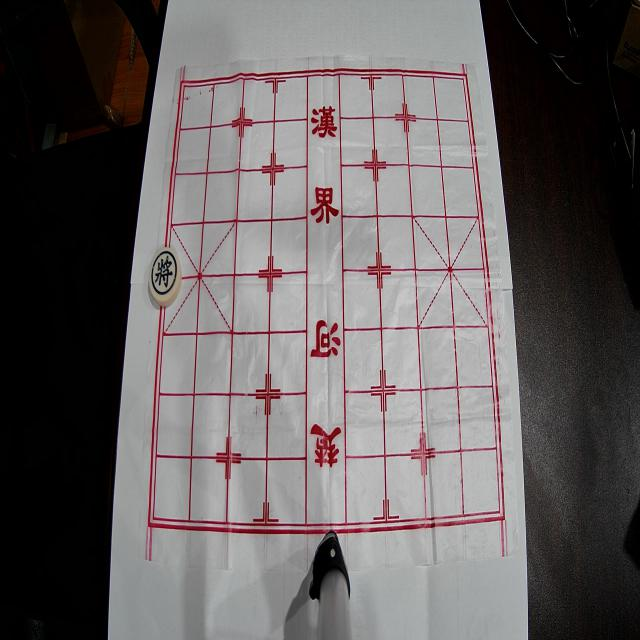black-general: (148, 248, 182, 306)
